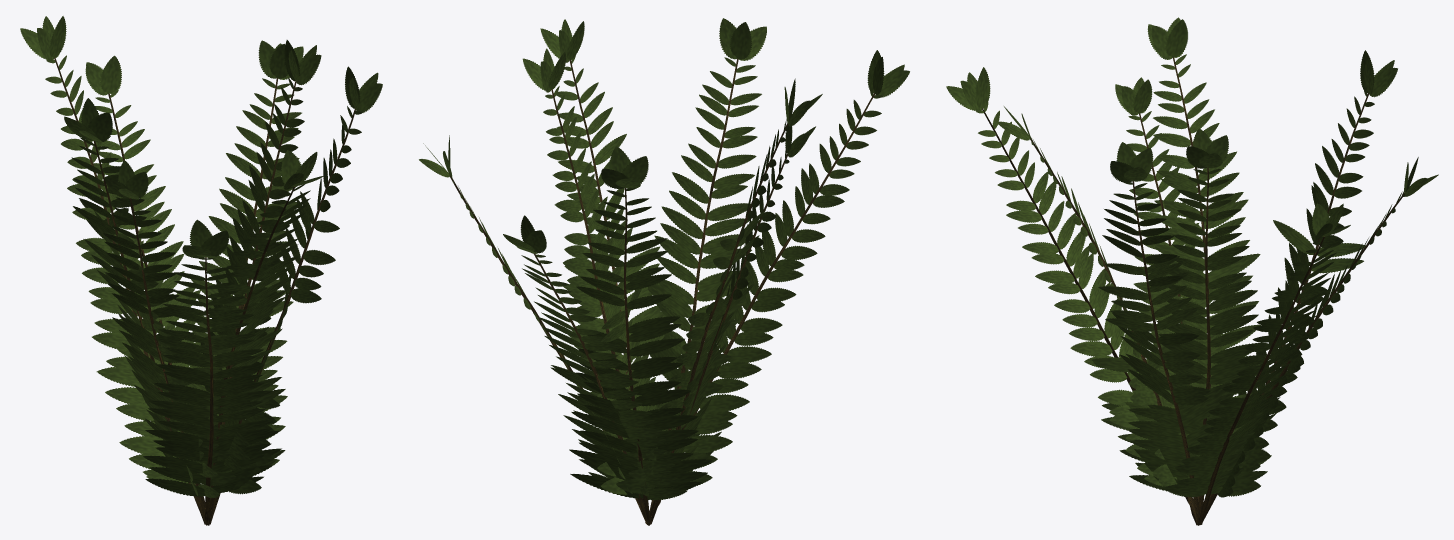
Rendered from royal_fern_v01.fbx.
3 renders of one model, left to right at view 1: azimuth 30°, elevation 25°; view 2: azimuth 150°, elevation 25°; view 3: azimuth 270°, elevation 25°, orthographic. The views are drawn at different scales.
Parts seen in each view (by area): view 1: royal_fern_v01; view 2: royal_fern_v01; view 3: royal_fern_v01.
Part boxes in pixels (x1,y1,x2,y2): royal_fern_v01: (20,16,382,525); royal_fern_v01: (419,18,909,525); royal_fern_v01: (946,17,1438,525).
Bounding box in the file's own units: 84.32 × 117 × 118.
Materials: 2 (2 with a texture image).
